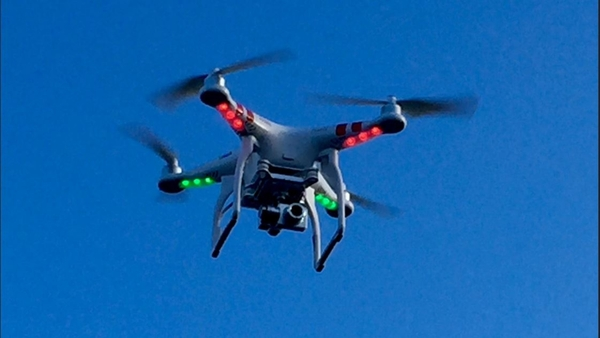drone: (126, 46, 480, 274)
